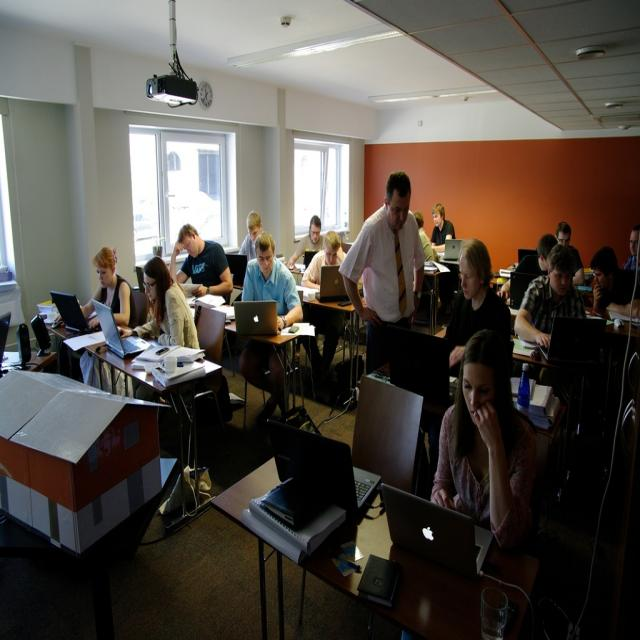chair: (351, 369, 425, 496), (387, 325, 455, 430), (130, 290, 148, 325)
desk: (212, 457, 497, 635)
laptop: (250, 417, 384, 533), (381, 481, 496, 581), (92, 299, 153, 359), (542, 316, 606, 365), (49, 290, 100, 332), (234, 298, 280, 337), (317, 265, 348, 301), (0, 311, 11, 369), (441, 238, 464, 263)
person: (431, 326, 537, 554), (338, 170, 426, 368), (234, 233, 302, 424), (442, 239, 512, 372), (515, 244, 587, 352), (129, 254, 201, 350), (172, 223, 234, 302), (80, 246, 134, 328), (288, 214, 324, 273), (238, 210, 264, 269), (411, 210, 438, 263), (429, 202, 455, 246)
